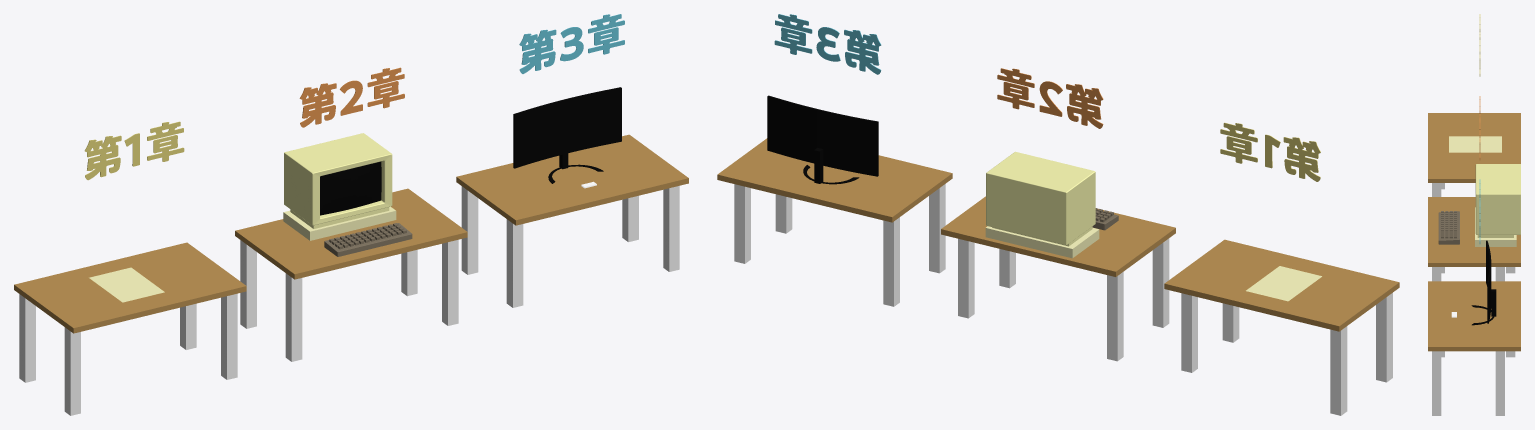
3 renders of one model, left to right at view 1: azimuth 30°, elevation 25°; view 2: azimuth 150°, elevation 25°; view 3: azimuth 270°, elevation 25°, orthographic. The views are drawn at different scales.
Parts seen in each view (by area): view 1: 立方体.002, 立方体.020, 立方体.001, 立方体.024, 立方体.028, テキスト.002, テキスト.001, 立方体.029, テキスト, 立方体.015, 平面.003, 立方体.026; view 2: 立方体.020, 立方体.002, 立方体.001, 立方体.028, 立方体.024, テキスト.002, テキスト.001, テキスト, 平面.003, 立方体.026; view 3: 立方体.002, 立方体.020, 立方体.001, 立方体.028, 平面.003, 立方体.015, 立方体.026, 立方体.024, 立方体.023, テキスト.002, テキスト.001, テキスト (+1 smaller).
Part boxes in pixels (bbox=[...]): 立方体.002: bbox=[456, 134, 688, 307]; 立方体.020: bbox=[14, 242, 246, 415]; 立方体.001: bbox=[235, 188, 467, 361]; 立方体.024: bbox=[513, 87, 621, 168]; 立方体.028: bbox=[284, 133, 392, 225]; テキスト.002: bbox=[519, 14, 624, 73]; テキスト.001: bbox=[299, 67, 404, 127]; 立方体.029: bbox=[320, 161, 381, 215]; テキスト: bbox=[84, 121, 184, 180]; 立方体.015: bbox=[324, 223, 412, 256]; 平面.003: bbox=[89, 267, 164, 302]; 立方体.026: bbox=[283, 206, 396, 240]; 立方体.020: bbox=[1164, 239, 1399, 415]; 立方体.002: bbox=[717, 138, 952, 306]; 立方体.001: bbox=[941, 196, 1175, 361]; 立方体.028: bbox=[986, 151, 1095, 245]; 立方体.024: bbox=[767, 95, 878, 176]; テキスト.002: bbox=[774, 14, 881, 74]; テキスト.001: bbox=[997, 68, 1103, 128]; テキスト: bbox=[1220, 122, 1320, 181]; 平面.003: bbox=[1246, 266, 1321, 301]; 立方体.026: bbox=[985, 226, 1099, 258]; 立方体.002: bbox=[1428, 281, 1520, 415]; 立方体.020: bbox=[1428, 113, 1520, 196]; 立方体.001: bbox=[1428, 197, 1520, 281]; 立方体.028: bbox=[1475, 164, 1520, 234]; 平面.003: bbox=[1449, 136, 1501, 152]; 立方体.015: bbox=[1438, 211, 1459, 244]; 立方体.026: bbox=[1475, 207, 1516, 246]; 立方体.024: bbox=[1486, 240, 1491, 323]; 立方体.023: bbox=[1491, 289, 1496, 316]; テキスト.002: bbox=[1479, 179, 1480, 243]; テキスト.001: bbox=[1479, 96, 1480, 159]; テキスト: bbox=[1479, 14, 1480, 76].
Bounding box in the file's own units: 30.35 × 11.45 × 5.09.
